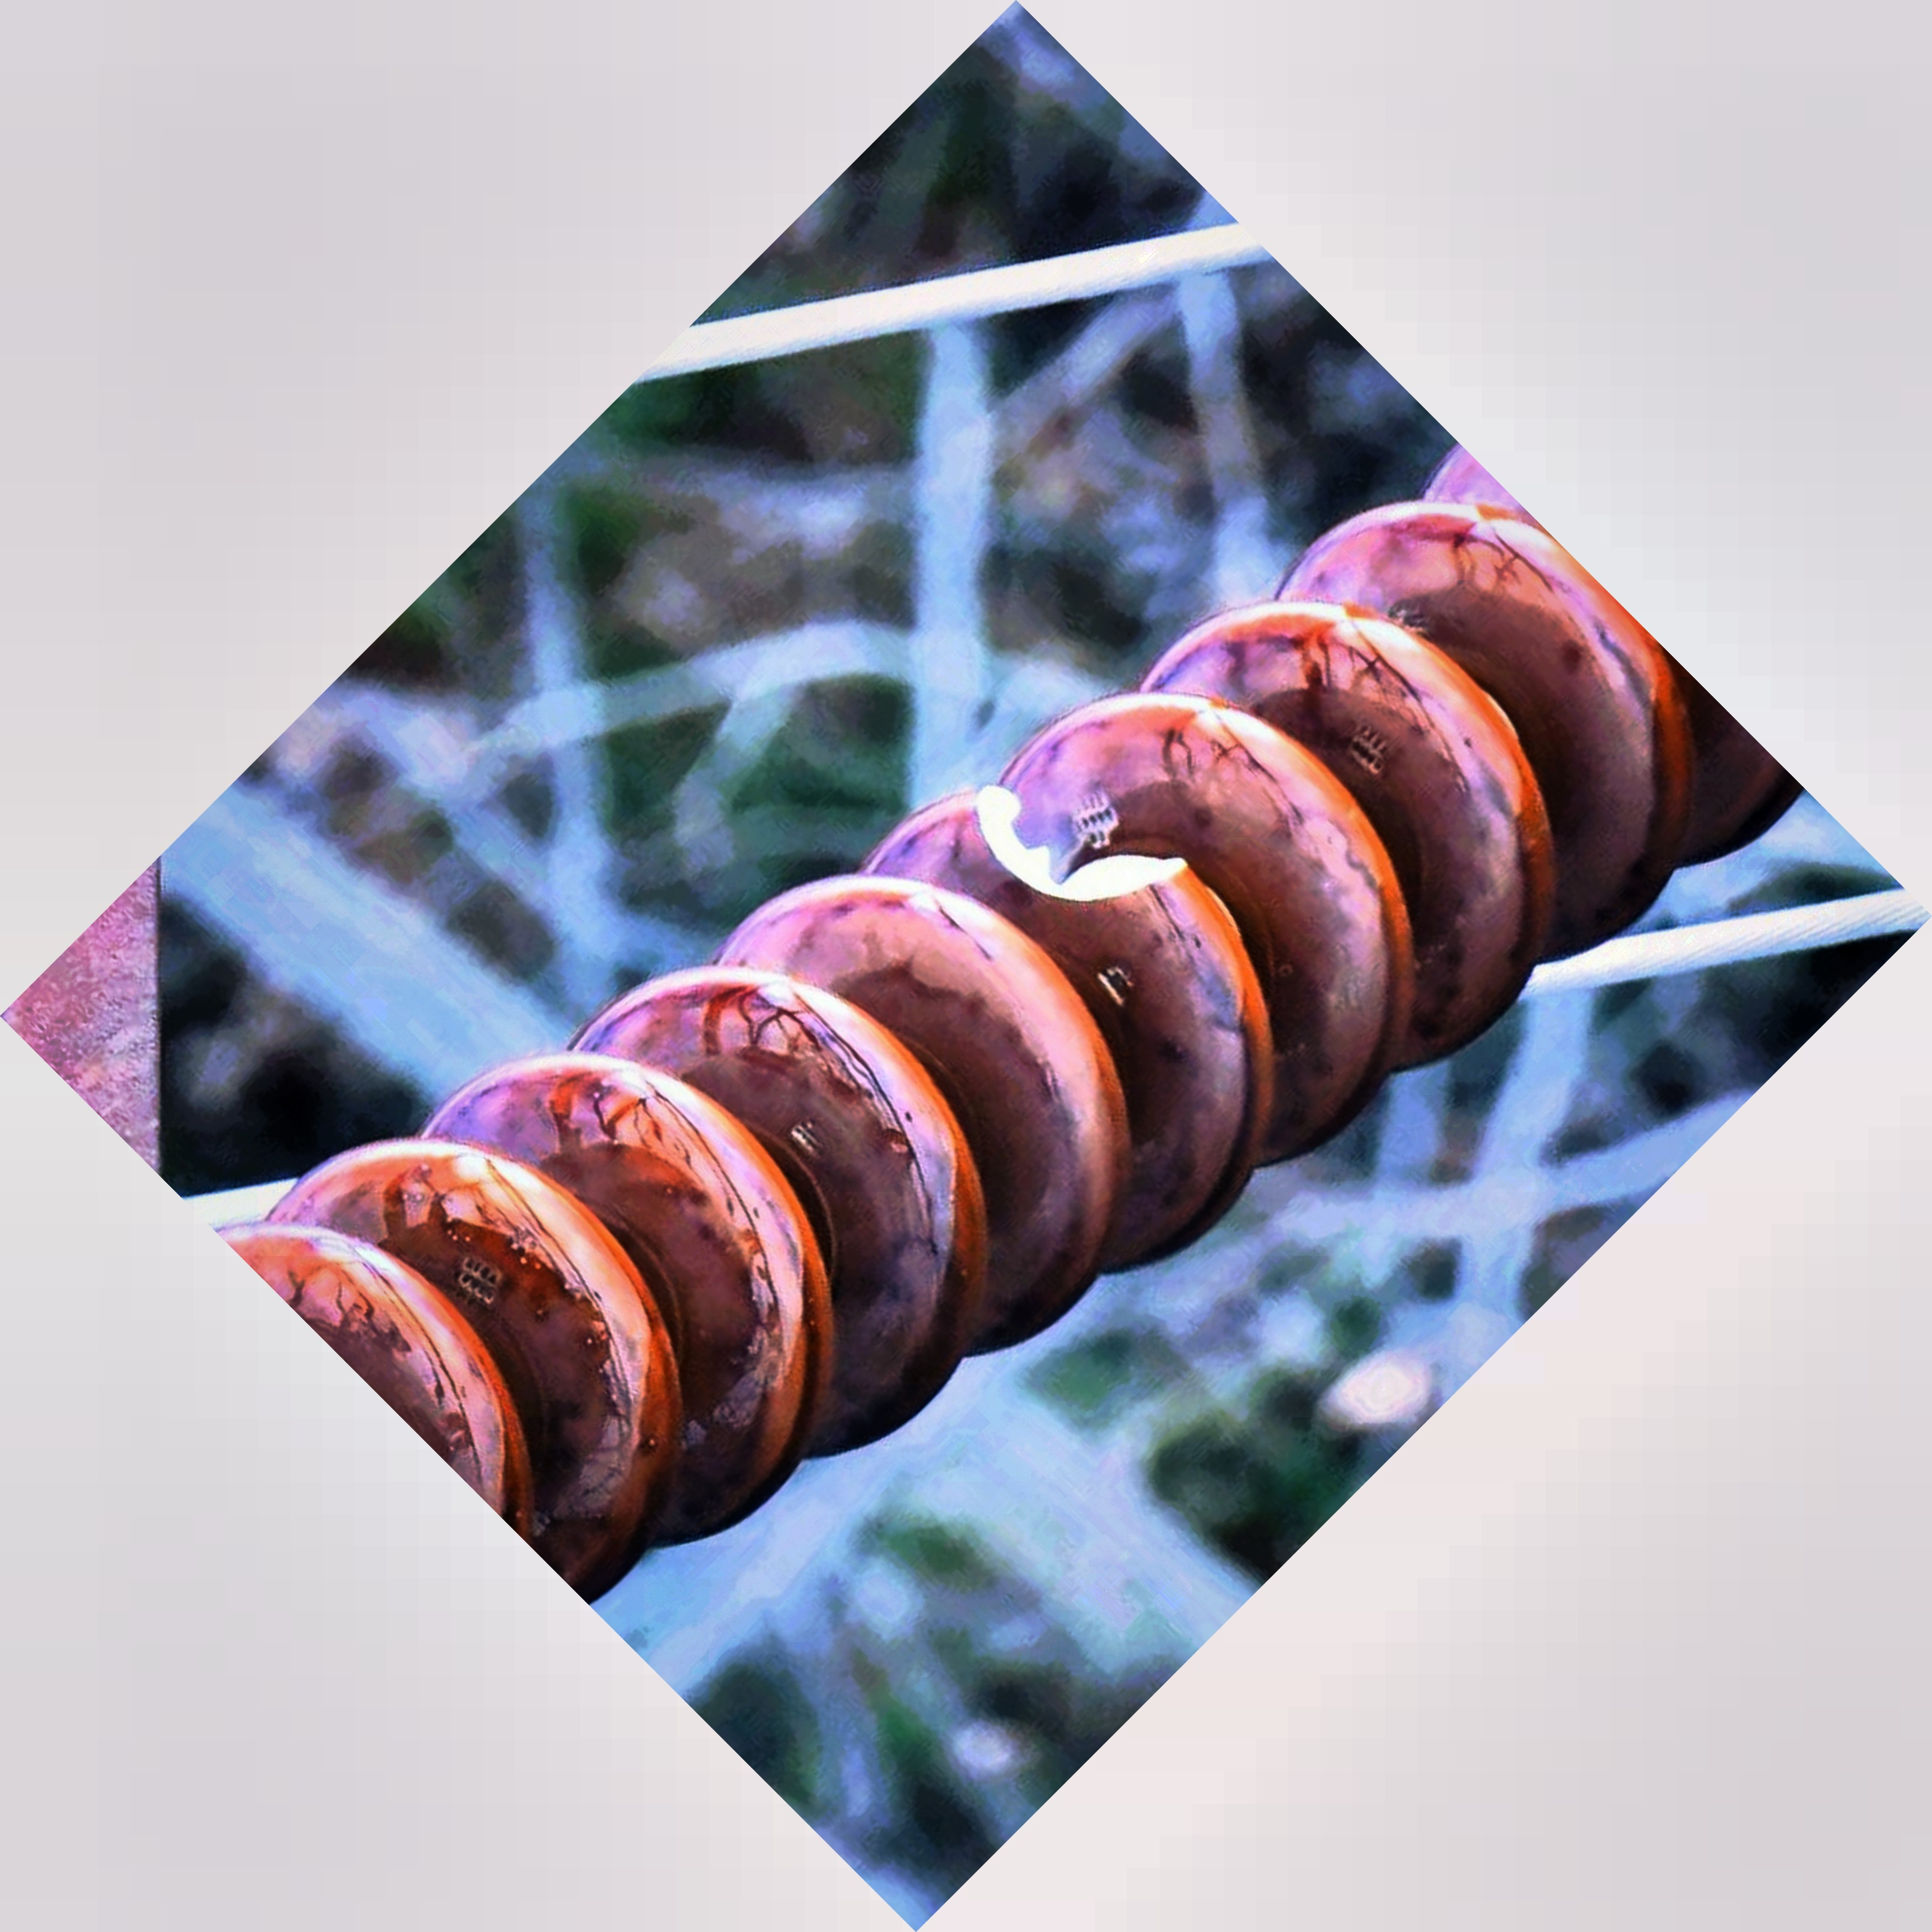insulator breakage: (862, 757, 1276, 1284)
